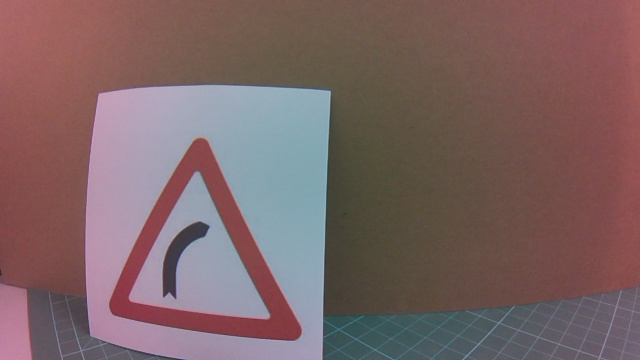right: (116, 158, 287, 334)
